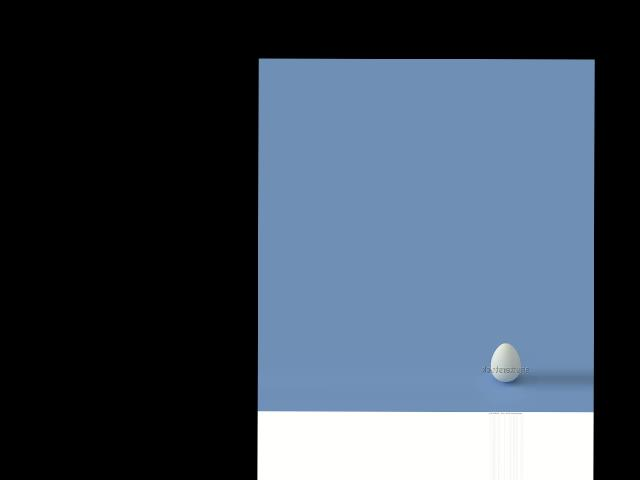egg: (490, 343, 520, 382)
